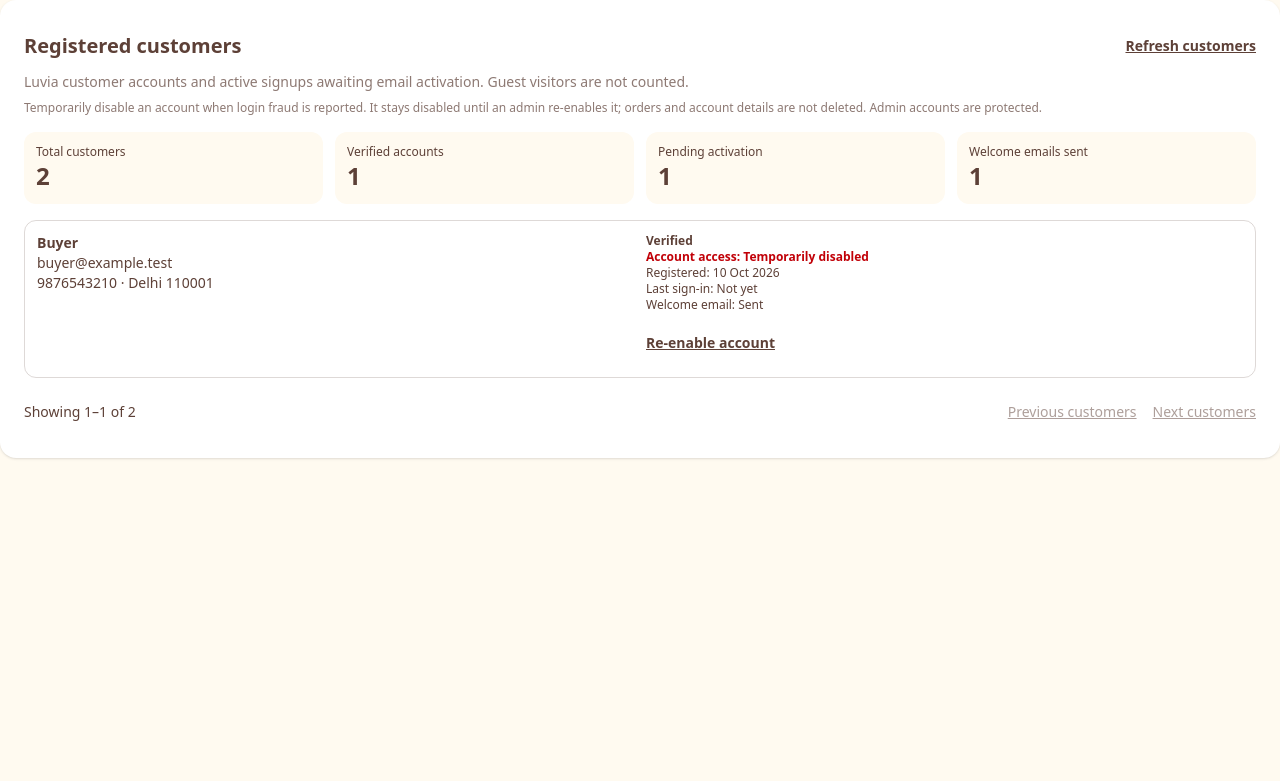
it: confirms customer suspension/restoration with current admin password (suspended=true)
Click the button "Re-enable account".
click(710, 343)  # box [646,321,775,365]
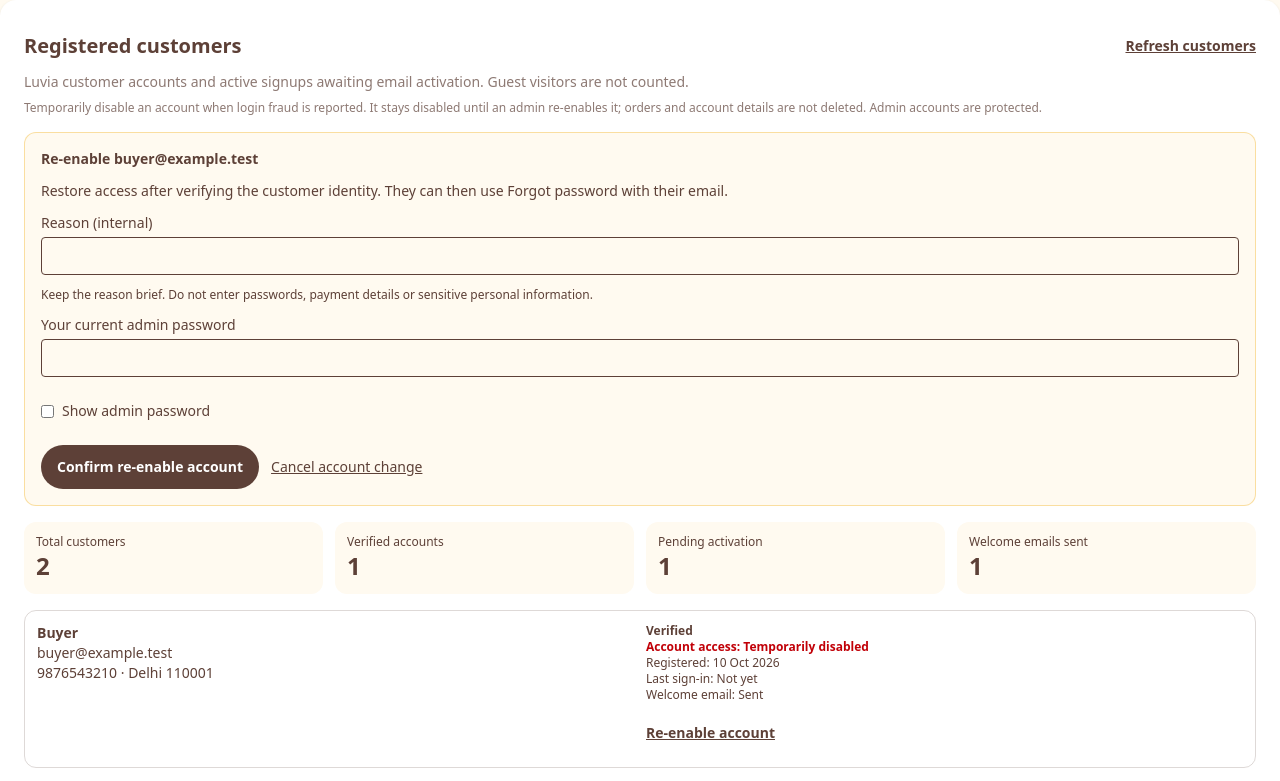
Type "Customer reported login fraud." into the field labelled "Reason (internal)".
click(640, 256); type("Customer reported login fraud.")  # box [41,237,1239,275]
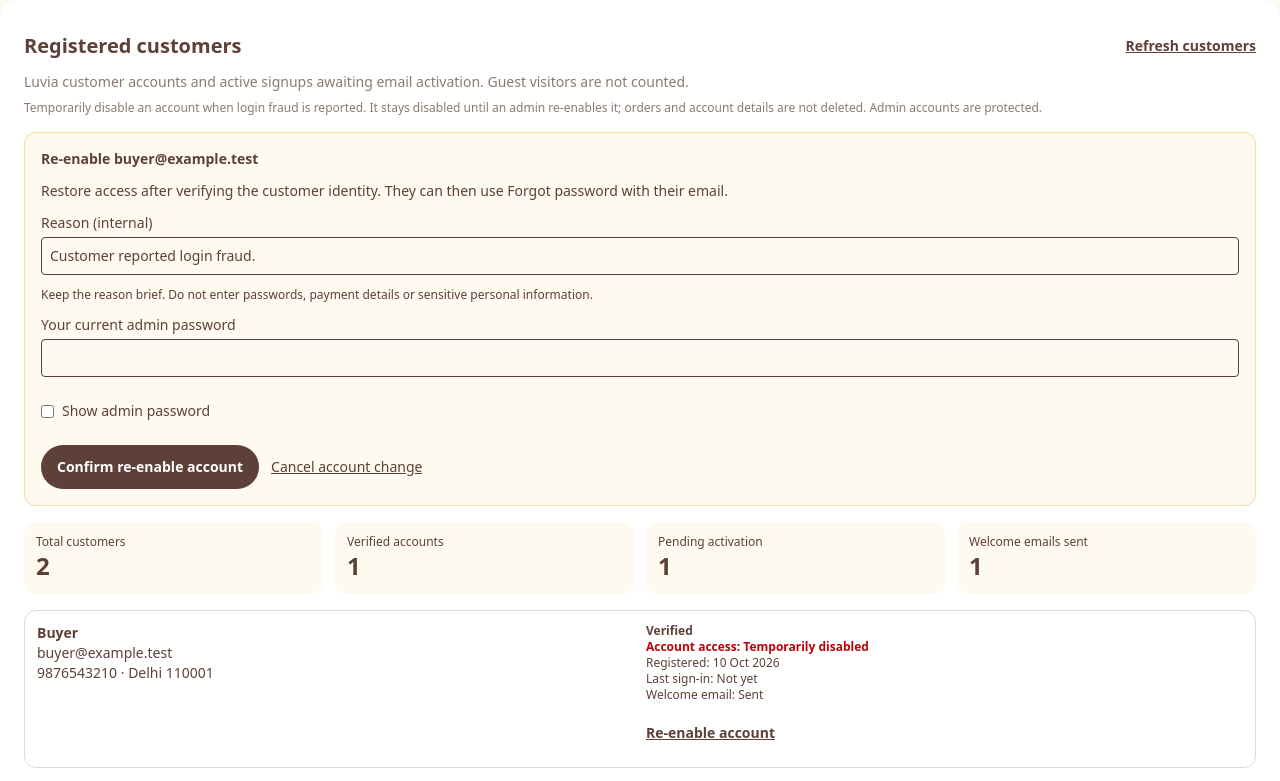
Type "current" into the password field labelled "Your current admin password".
click(640, 358); type("current")  # box [41,339,1239,377]
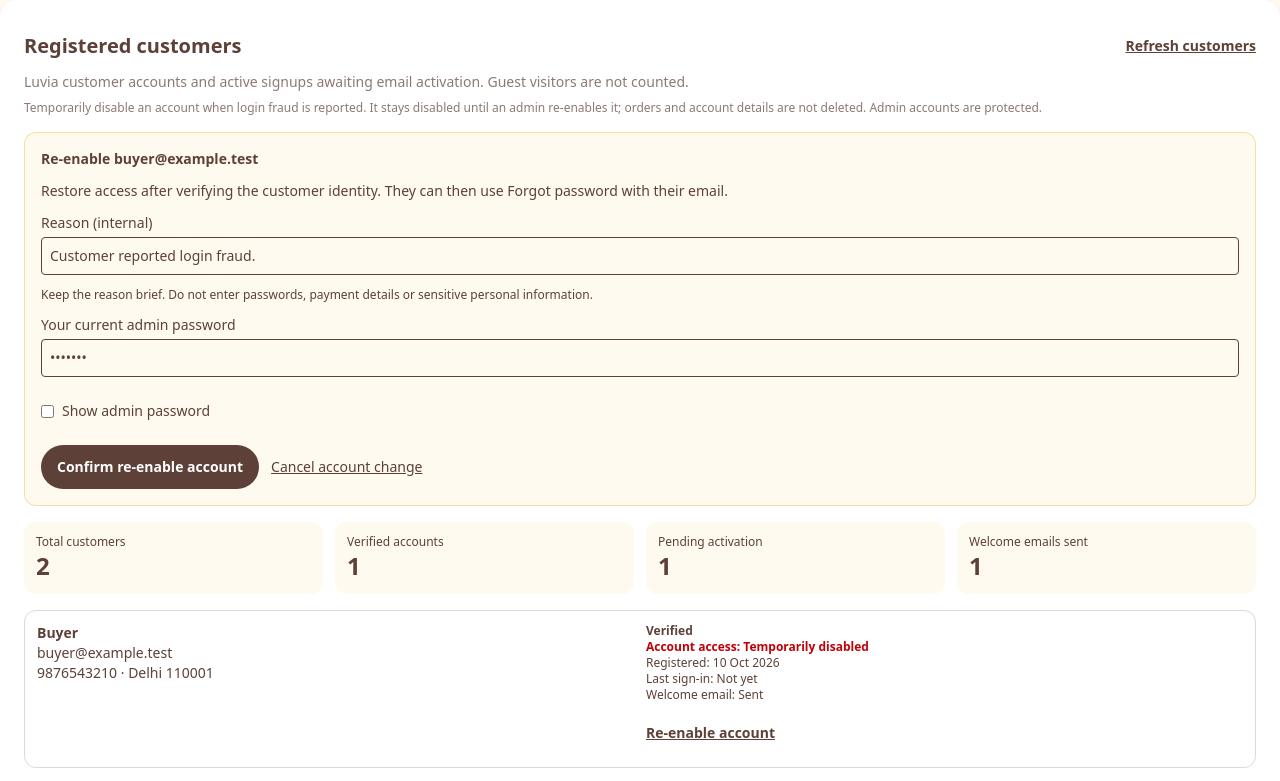
Click the checkbox labelled "Show admin password".
click(48, 411)  # box [41,404,54,418]
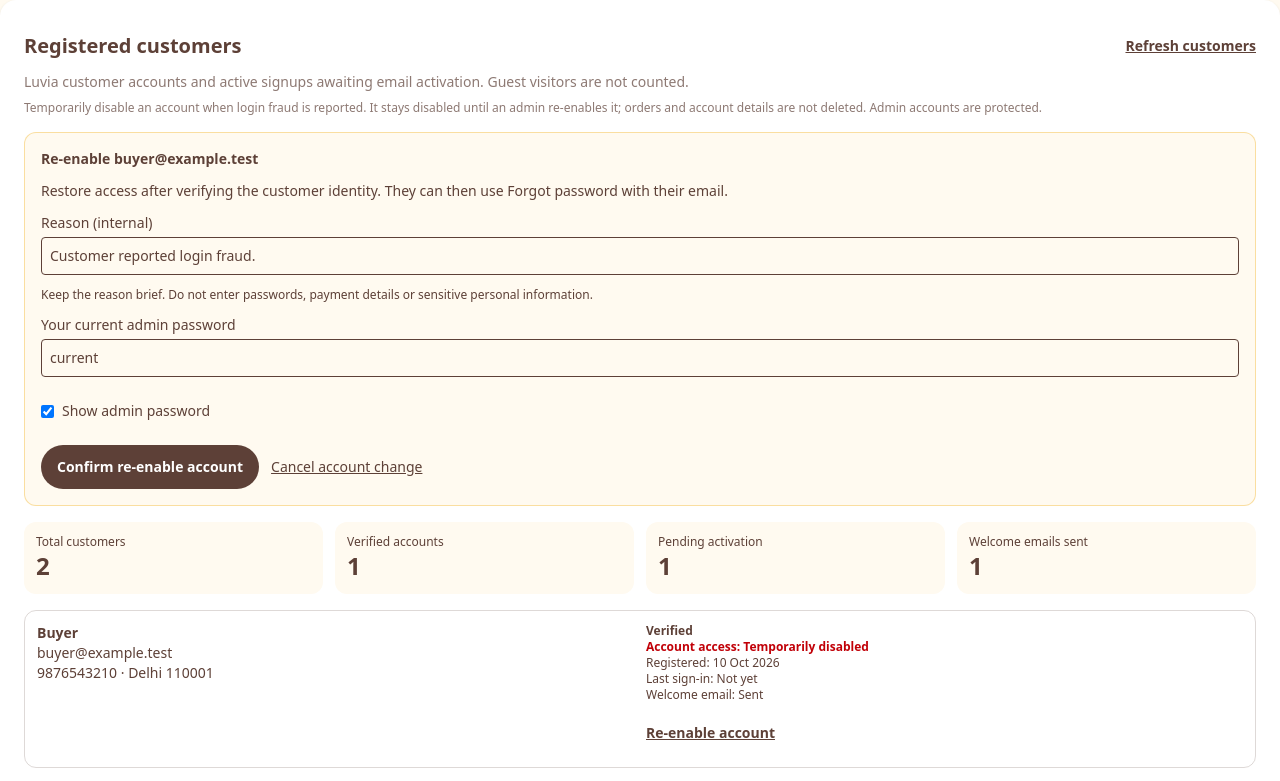
Expected: the field labelled "Your current admin password" shows its text, [41,339,1239,377]
Submit the form named "Customer account access", box [24,132,1256,506]
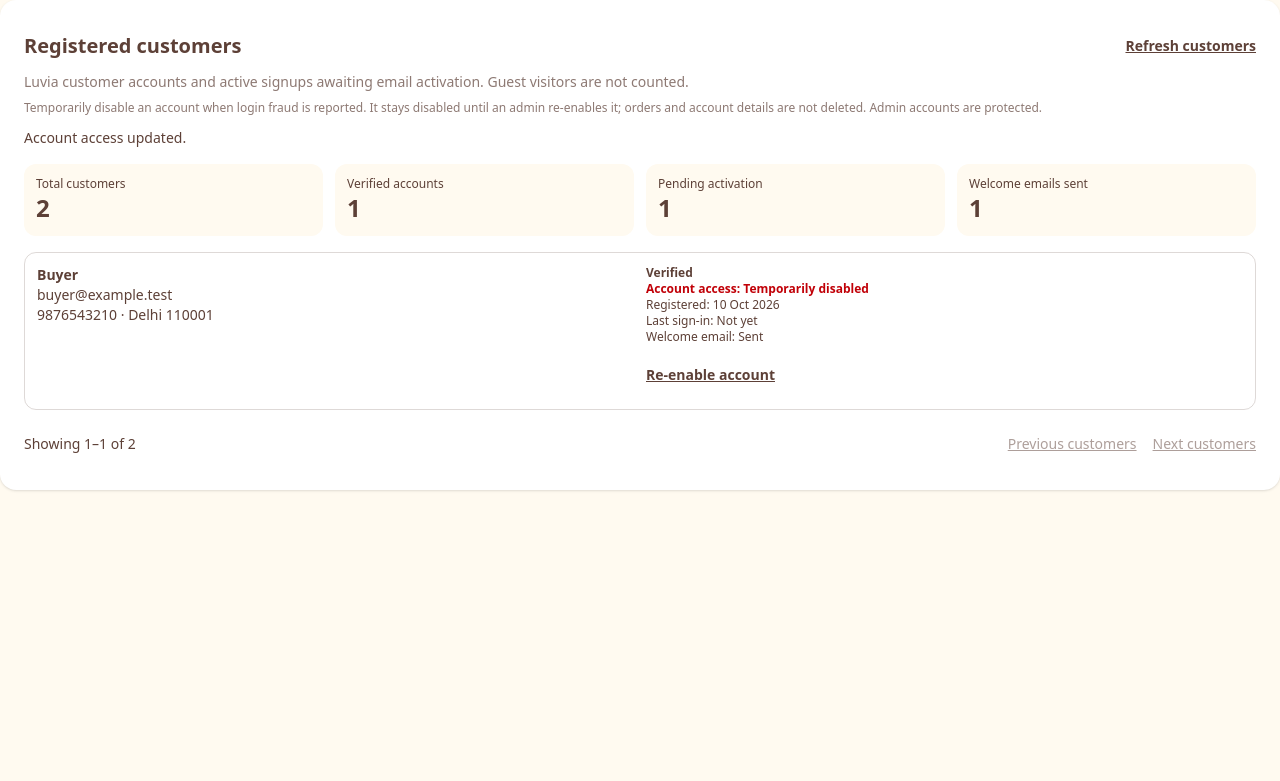
Expected: the text "Account access updated." is shown, [24,128,186,147]
